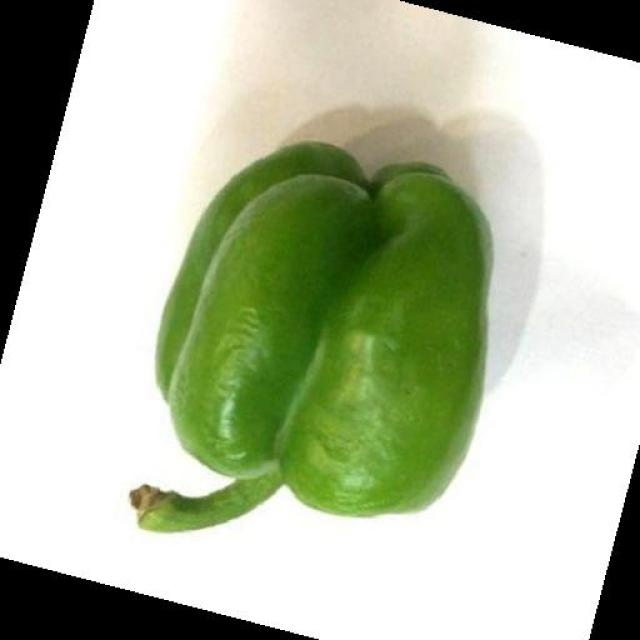Fresh_Capsicum: (181, 146, 478, 564)
